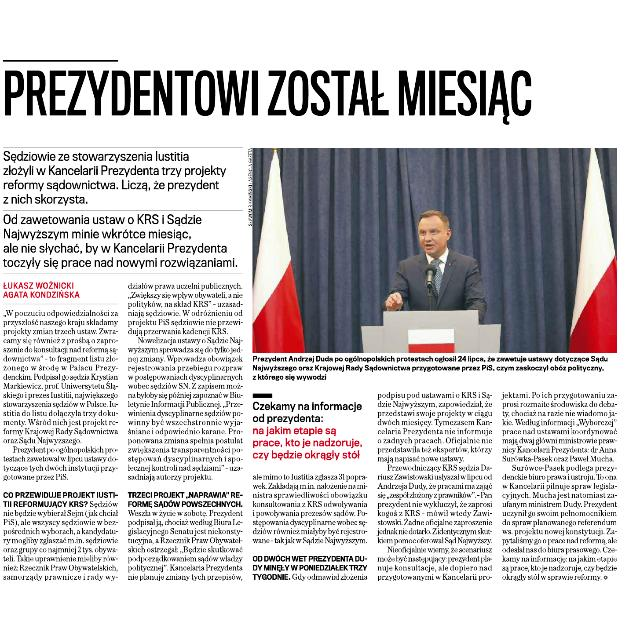author: (0, 276, 86, 300)
body: (126, 276, 247, 580), (2, 306, 122, 580), (498, 384, 622, 580), (374, 386, 496, 580), (249, 386, 369, 580)
caption: (252, 353, 610, 382)
image: (248, 144, 620, 353)
lead: (3, 147, 241, 269)
title: (2, 62, 544, 128)
